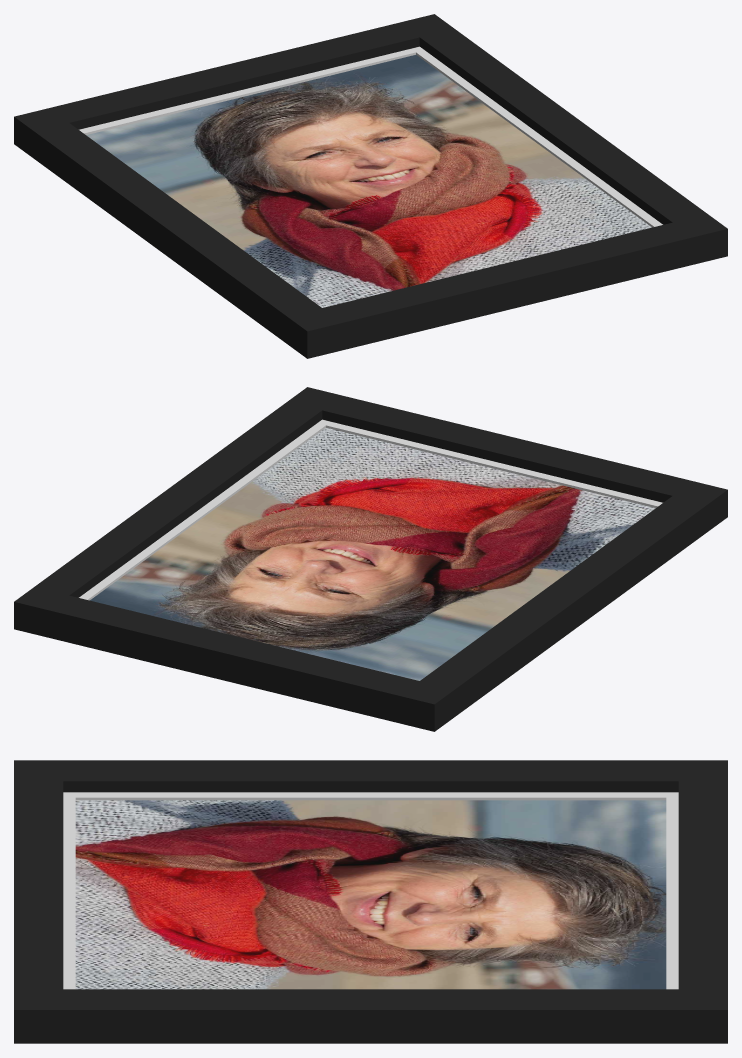
3 views of the same model, one above another, from view 1: azimuth 30°, elevation 25°; view 2: azimuth 150°, elevation 25°; view 3: azimuth 270°, elevation 25° (orthographic). The views are drawn at different scales.
Visible parts, largest first — view 1: PhotoPlane.002, BuitenFrame, BinnenFrame; view 2: PhotoPlane.002, BuitenFrame, BinnenFrame; view 3: PhotoPlane.002, BuitenFrame, BinnenFrame.
Boxes of the visible parts, x1=… form: PhotoPlane.002: x1=86, y1=55, x2=651, y2=307; BuitenFrame: x1=14, y1=14, x2=727, y2=358; BinnenFrame: x1=79, y1=46, x2=662, y2=227; PhotoPlane.002: x1=90, y1=428, x2=655, y2=680; BuitenFrame: x1=14, y1=387, x2=727, y2=731; BinnenFrame: x1=79, y1=419, x2=662, y2=600; PhotoPlane.002: x1=75, y1=800, x2=666, y2=989; BuitenFrame: x1=14, y1=760, x2=727, y2=1043; BinnenFrame: x1=63, y1=792, x2=678, y2=989.
Size of the model in its own units: 0.48 by 0.03 by 0.58.
Materials: 3 (1 with a texture image).
